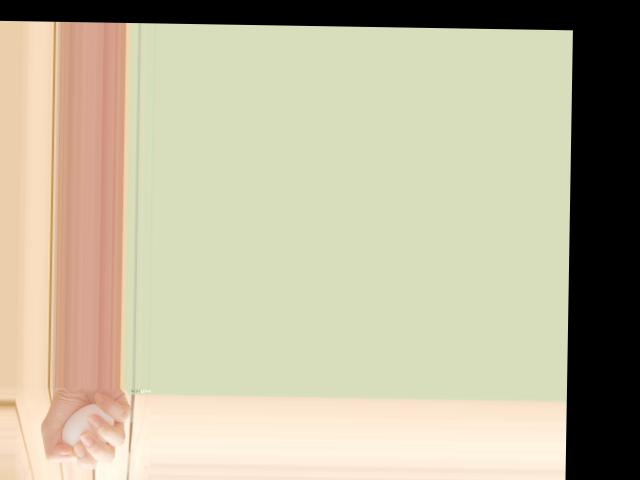egg: (61, 402, 115, 451)
